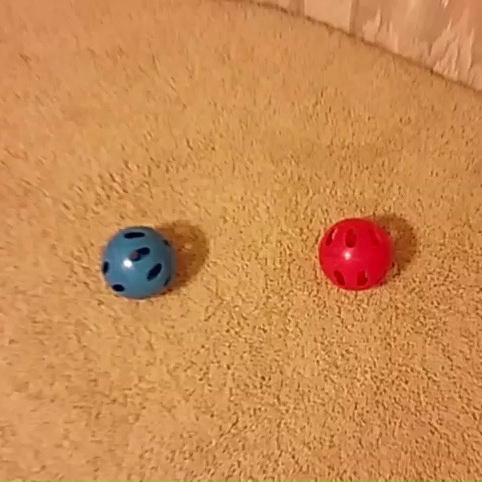blueball: (98, 222, 179, 301)
redball: (316, 213, 398, 294)
